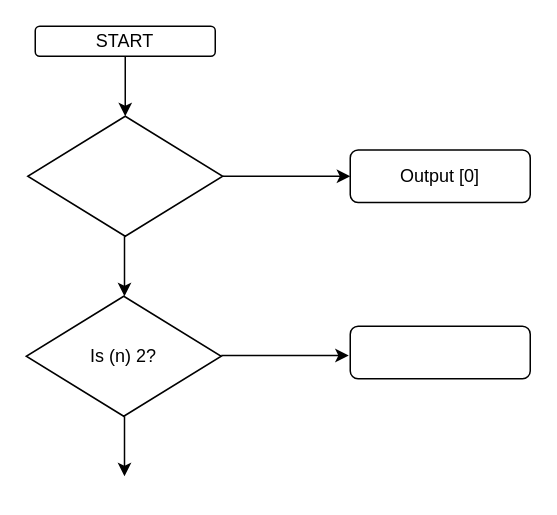
Image size: 557x515. Some labels were removed from this diagram. The shapes that lost their labels are listed below. From the top down, each one's centre as x and y in pixels, then its label:
At point 124,175: "Is (n) 1?".
At point 439,352: "Output [0, 1]".
